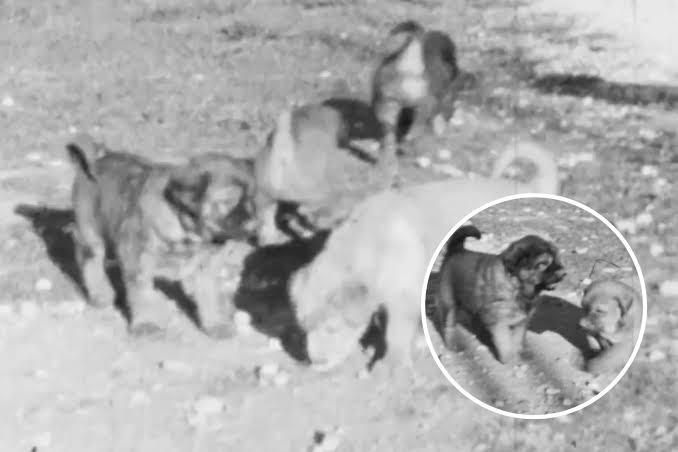adult_dog: (282, 134, 563, 395)
puppy-dog: (65, 143, 258, 340), (251, 95, 391, 247), (425, 224, 568, 368), (364, 19, 462, 167), (578, 264, 644, 381)
